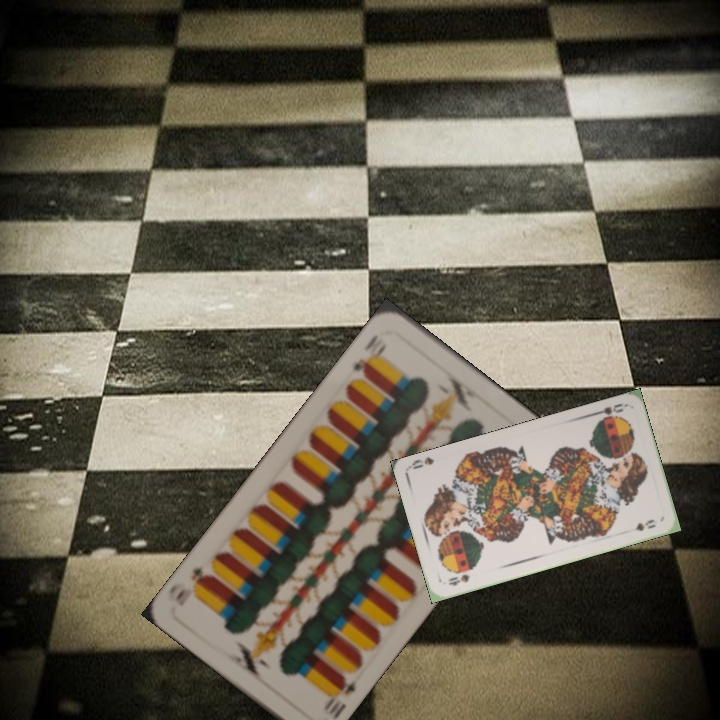E10: (348, 330, 389, 379), (319, 671, 359, 716)
SO: (588, 399, 628, 424), (444, 570, 473, 588)
